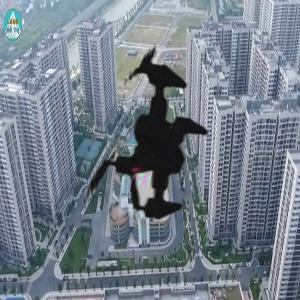drone: (16, 12, 269, 265)
